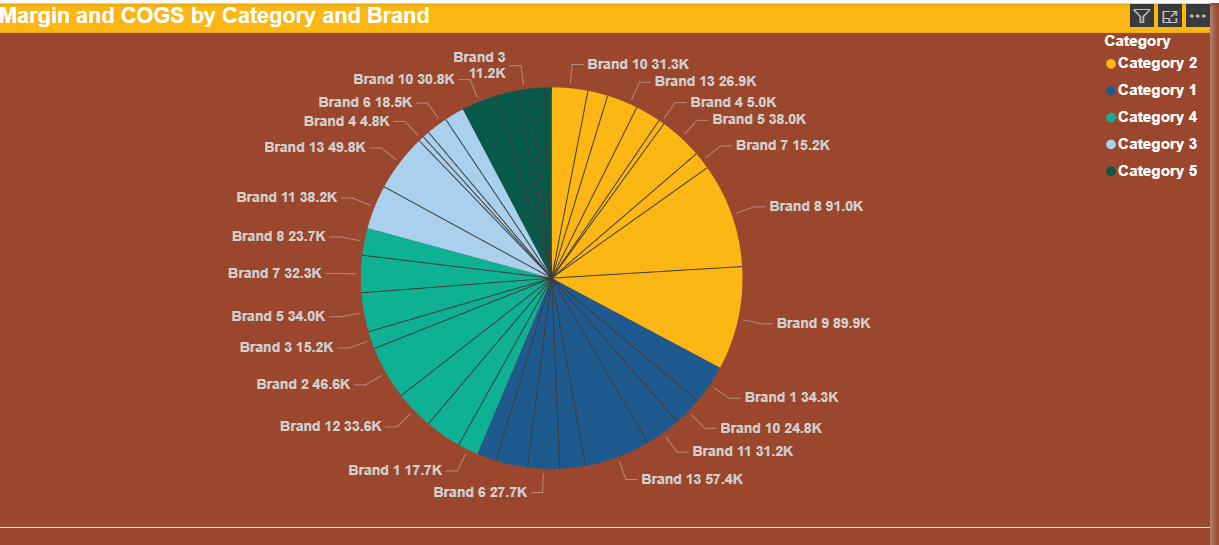

Layout of this report page (visuals, bound fields, positions):
{"tool":"powerbi","page":{"name":"pie","canvas":[1280,720],"ordinal":6},"visuals":[{"type":"pieChart","fields":{"Y":["Item.Margin"],"Category":["Item.Category"],"Series":["Item.Brand"]},"box":[10.2,0,1269.8,548.2],"z":0}]}

Visuals, with their boxes on the page's 1280x720 design canvas (x1, y1, x2, y2). These are canvas units, not pixel positions in the 1219x545 screenshot, which may show the page scaled, cropped or inside an application window:
pieChart - Item.Margin x Item.Category: [x1=10, y1=0, x2=1280, y2=548]
